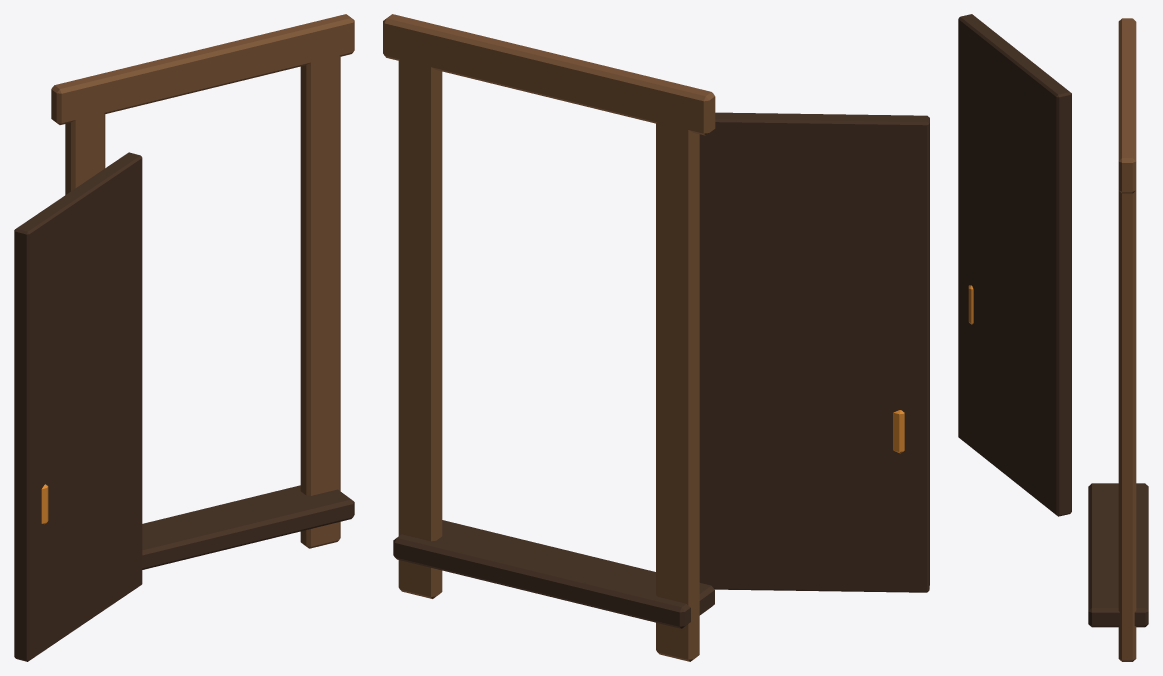
File: Hut_Shop_Door_0_-2.fbx
The picture shows the model from 3 angles, left to right: view 1: azimuth 30°, elevation 25°; view 2: azimuth 150°, elevation 25°; view 3: azimuth 270°, elevation 25°; orthographic projection. The views are drawn at different scales.
Parts seen in each view (by area): view 1: Hut_Shop_Door_0_-2; view 2: Hut_Shop_Door_0_-2; view 3: Hut_Shop_Door_0_-2.
Boxes of the visible parts, x1,y1,x2,y2 form: Hut_Shop_Door_0_-2: (14,14,354,661); Hut_Shop_Door_0_-2: (383,14,929,661); Hut_Shop_Door_0_-2: (958,14,1148,661).
Bounding box in the file's own units: 266 × 317 × 107.
